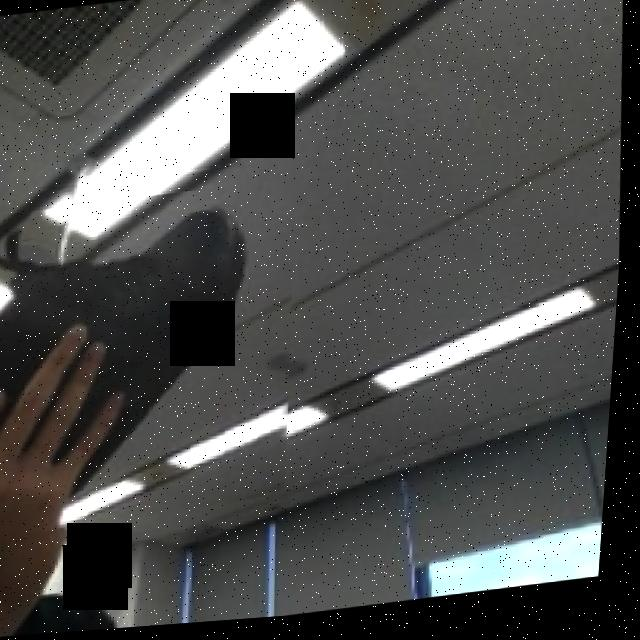shoe: (0, 181, 316, 543)
